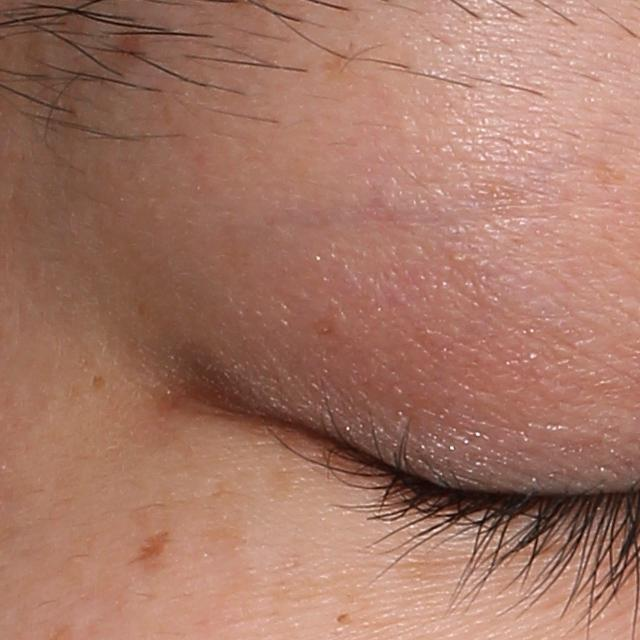melasma: (127, 528, 173, 566), (84, 368, 113, 392)
